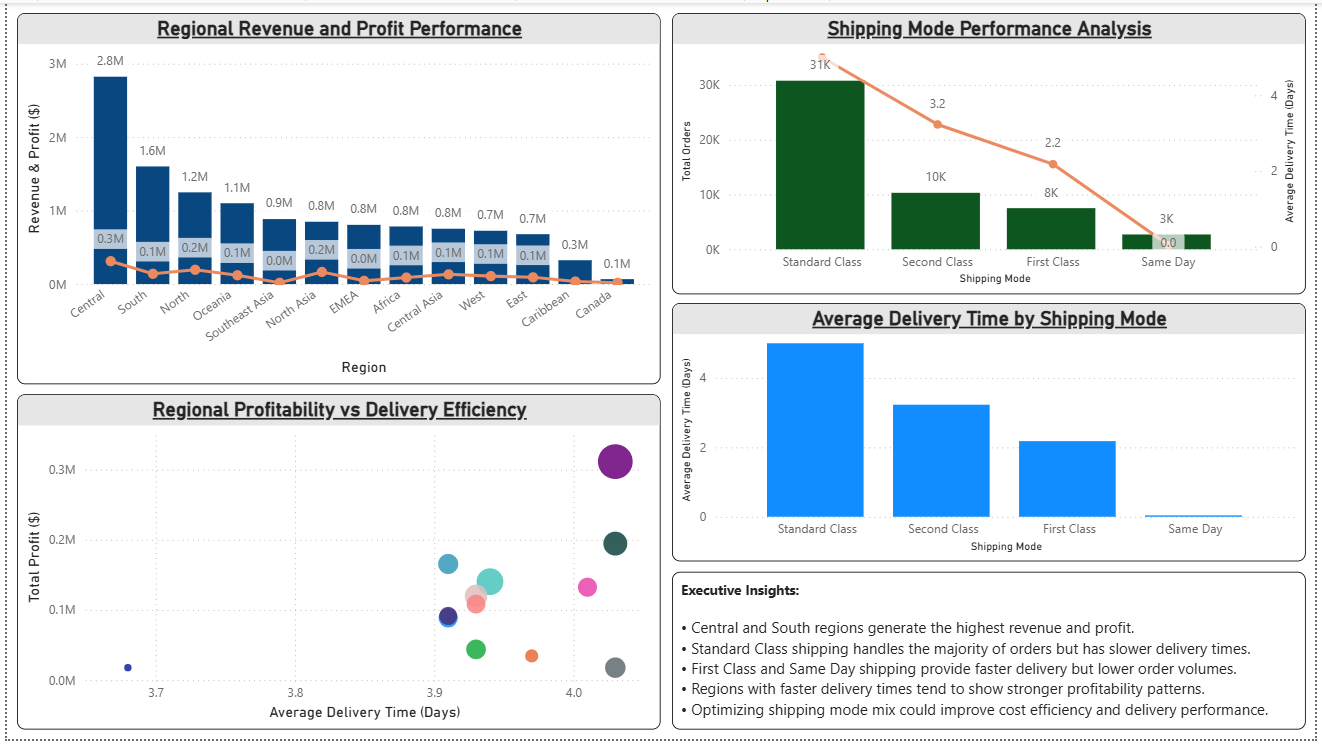

This screenshot's page, from the dashboard's own definition file:
{"tool":"powerbi","page":{"name":"Logistics Deep Dive Analysis","canvas":[1280,720],"ordinal":1},"visuals":[{"type":"lineClusteredColumnComboChart","title":"Regional Revenue and Profit Performance","fields":{"Y":["Sum(RegionPerformance.Revenue)"],"Y2":["Sum(RegionPerformance.Profit)"],"Category":["RegionPerformance.Region"]},"box":[9.8,9.8,629.8,363.2],"z":0},{"type":"lineClusteredColumnComboChart","title":"Shipping Mode Performance Analysis","fields":{"Y":["Sum(ShippingAnalysis.Orders)"],"Y2":["Avg(ShippingAnalysis.Avg_Delivery_Time)"],"Category":["ShippingAnalysis.Ship_Mode"]},"box":[650.5,9.8,620,275.1],"z":1000},{"type":"scatterChart","title":"Regional Profitability vs Delivery Efficiency","fields":{"X":["RegionPerformance.Avg_Delivery_Time"],"Y":["RegionPerformance.Profit"],"Size":["Sum(RegionPerformance.Revenue)"],"Series":["RegionPerformance.Region"]},"box":[9.8,382.7,629.8,327.7],"z":2000},{"type":"clusteredColumnChart","title":"Average Delivery Time by Shipping Mode","fields":{"Category":["ShippingAnalysis.Ship_Mode"],"Y":["Avg(ShippingAnalysis.Avg_Delivery_Time)"]},"box":[650.5,293.5,620,253.1],"z":2001},{"type":"textbox","box":[650.5,556.4,620,154.1],"z":2002}]}

Visuals, with their boxes in screenshot pixels (x1, y1, x2, y2), scaled from the page's 1280x720 canvas onto the 1322x749 screenshot:
"Regional Revenue and Profit Performance" lineClusteredColumnComboChart: [10,10,661,388]
"Shipping Mode Performance Analysis" lineClusteredColumnComboChart: [672,10,1312,296]
"Regional Profitability vs Delivery Efficiency" scatterChart: [10,398,661,739]
"Average Delivery Time by Shipping Mode" clusteredColumnChart: [672,305,1312,569]
textbox: [672,579,1312,739]
